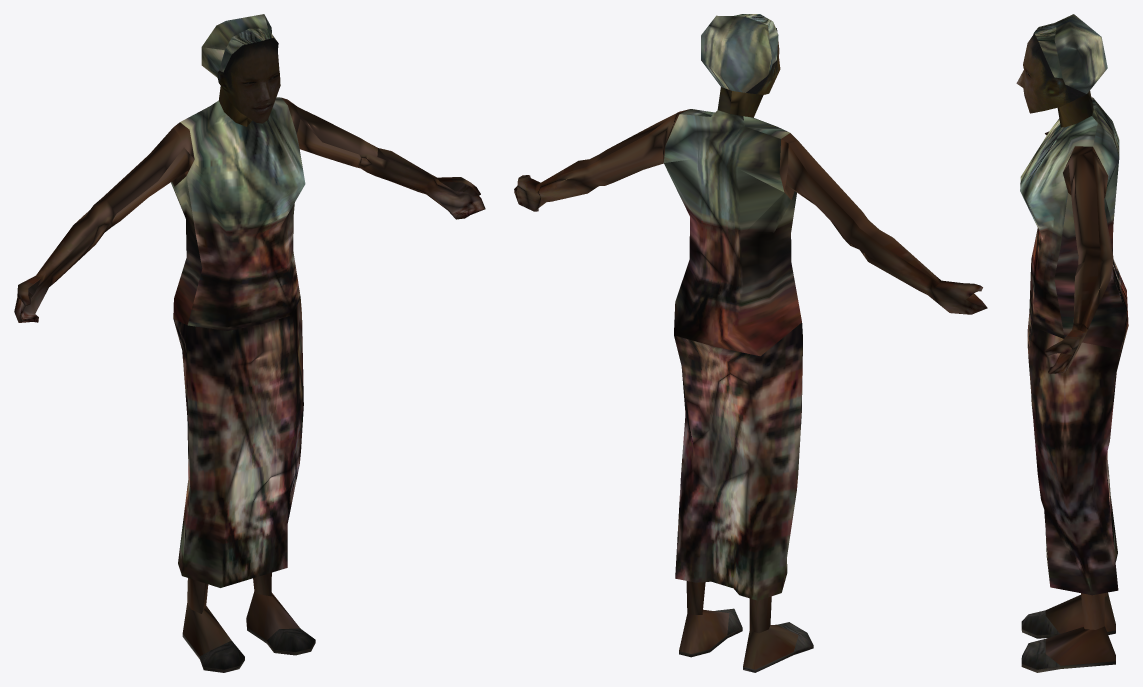
Rendered from CSomalF2.glb.
3 renders of one model, left to right at view 1: azimuth 30°, elevation 25°; view 2: azimuth 150°, elevation 25°; view 3: azimuth 270°, elevation 25°, orthographic.
Parts seen in each view (by area): view 1: _CSomalF2; view 2: _CSomalF2; view 3: _CSomalF2.
Part boxes in pixels (x1,y1,x2,y2): _CSomalF2: [14, 14, 485, 672]; _CSomalF2: [514, 14, 987, 672]; _CSomalF2: [1016, 14, 1128, 672].
Size of the model in its own units: 1.59 by 2.04 by 0.3327.
3 materials, 3 textured.
